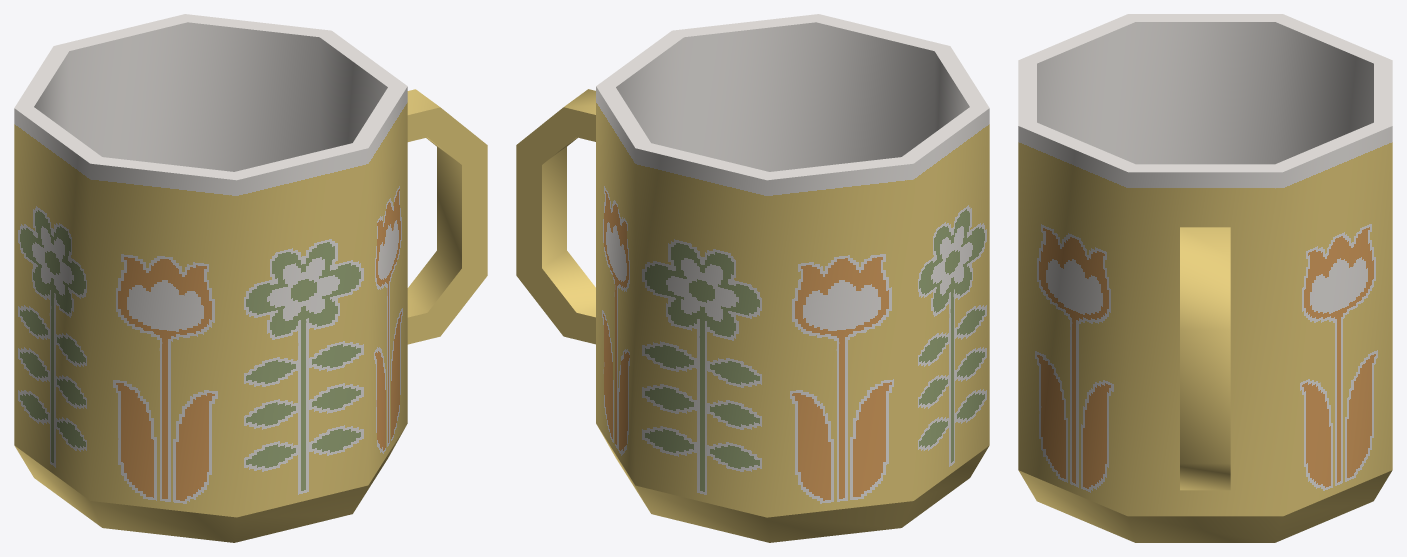
The model's file is 034b_Mug.glb.
3 renders of one model, left to right at view 1: azimuth 30°, elevation 25°; view 2: azimuth 150°, elevation 25°; view 3: azimuth 270°, elevation 25°, orthographic. The views are drawn at different scales.
Visible parts, largest first — view 1: part_0; view 2: part_0; view 3: part_0.
Boxes of the visible parts, left/top/right/bottom form: part_0: left=14, top=14, right=487, bottom=542; part_0: left=516, top=14, right=989, bottom=542; part_0: left=1018, top=14, right=1392, bottom=542.
Bounding box in the file's own units: 0.0985 × 0.0825 × 0.0739.
Materials: 1 (1 with a texture image).
